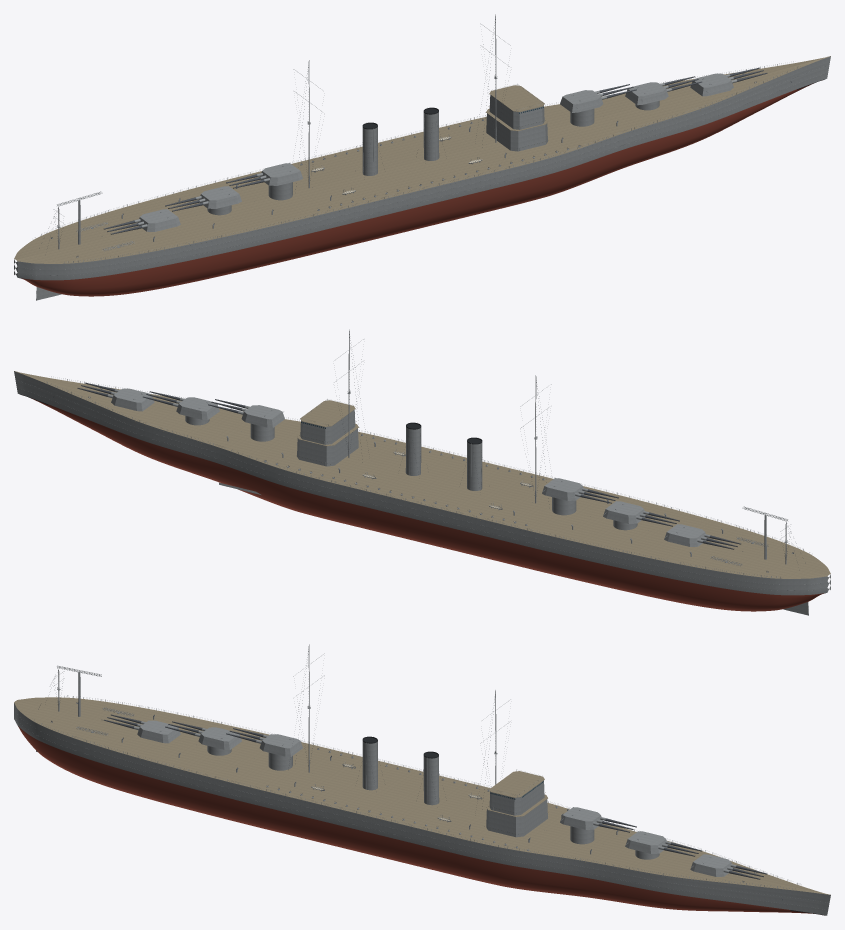
The model's file is republic_bb41.glb.
The picture shows the model from 3 angles, top to bottom: view 1: azimuth 30°, elevation 25°; view 2: azimuth 150°, elevation 25°; view 3: azimuth 330°, elevation 25°; orthographic projection.
Visible parts, largest first — view 1: Republic class; view 2: Republic class; view 3: Republic class.
Part boxes in pixels (x1,y1,x2,y2): Republic class: [14, 14, 830, 300]; Republic class: [14, 329, 830, 615]; Republic class: [14, 644, 830, 915].
Bounding box in the file's own units: 420 × 86.9 × 53.09.
8 materials, 2 textured.
